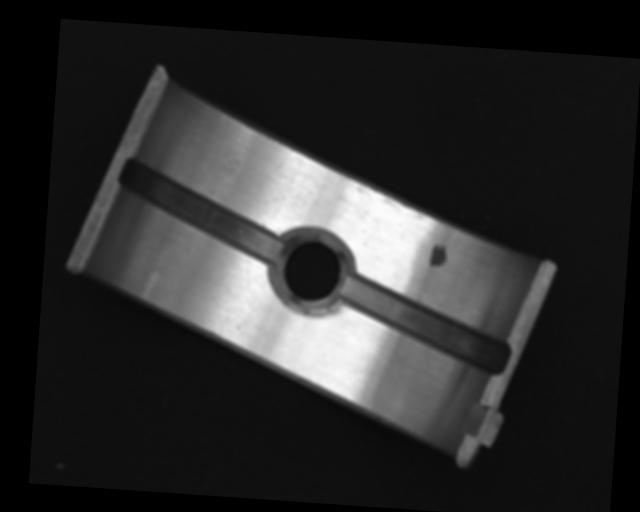blot: (428, 242, 448, 271)
gap: (112, 158, 289, 266), (338, 270, 512, 375)
hole: (274, 232, 349, 317)
